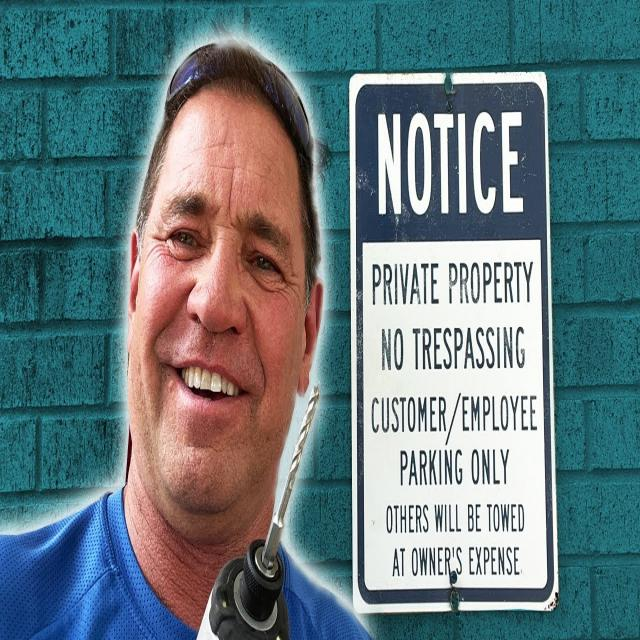human: (106, 44, 339, 596)
